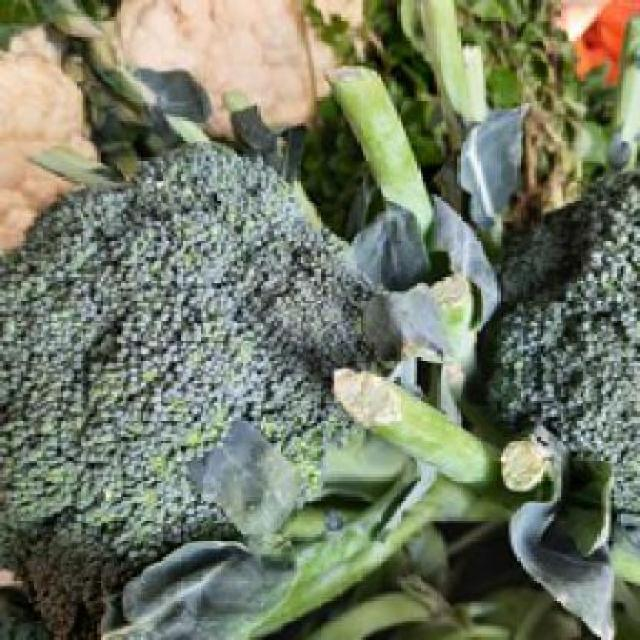broccoli: (2, 159, 512, 612)
